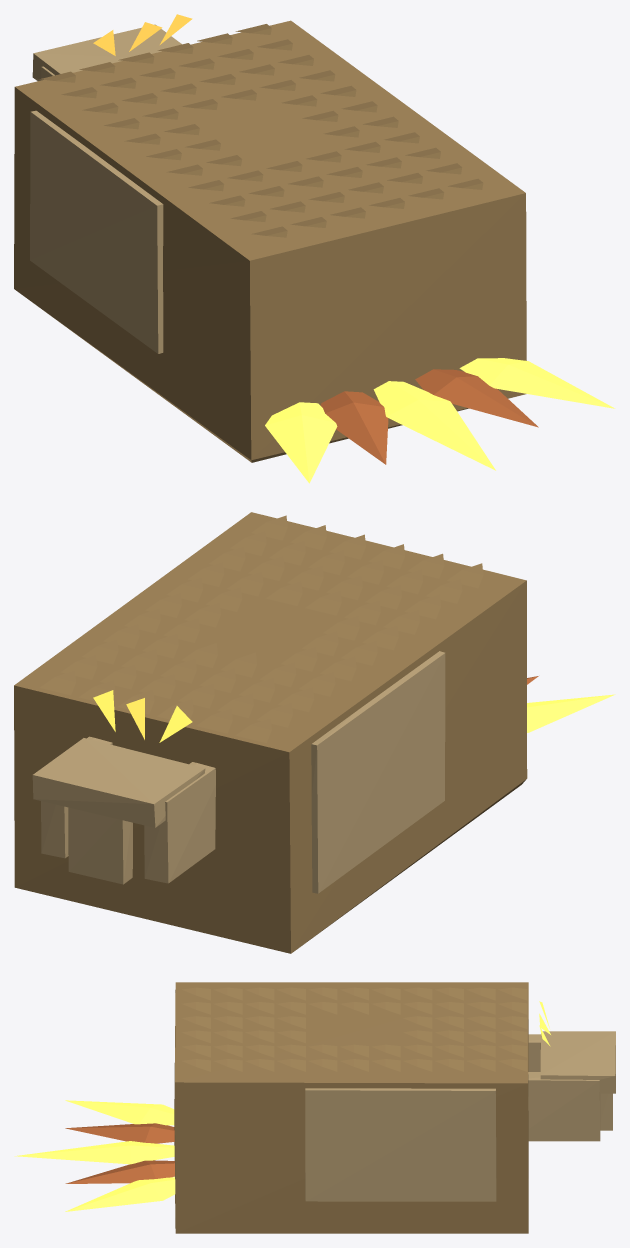
The model's file is body_lod1.glb.
The picture shows the model from 3 angles, top to bottom: view 1: azimuth 30°, elevation 25°; view 2: azimuth 150°, elevation 25°; view 3: azimuth 270°, elevation 25°; orthographic projection. The views are drawn at different scales.
Parts seen in each view (by area): view 1: phoenix_body_LOD1; view 2: phoenix_body_LOD1; view 3: phoenix_body_LOD1.
Boxes of the visible parts, x1,y1,x2,y2 form: phoenix_body_LOD1: (14, 14, 615, 483); phoenix_body_LOD1: (14, 512, 615, 953); phoenix_body_LOD1: (14, 982, 615, 1233).
Bounding box in the file's own units: 3.68 × 2.65 × 8.38.
